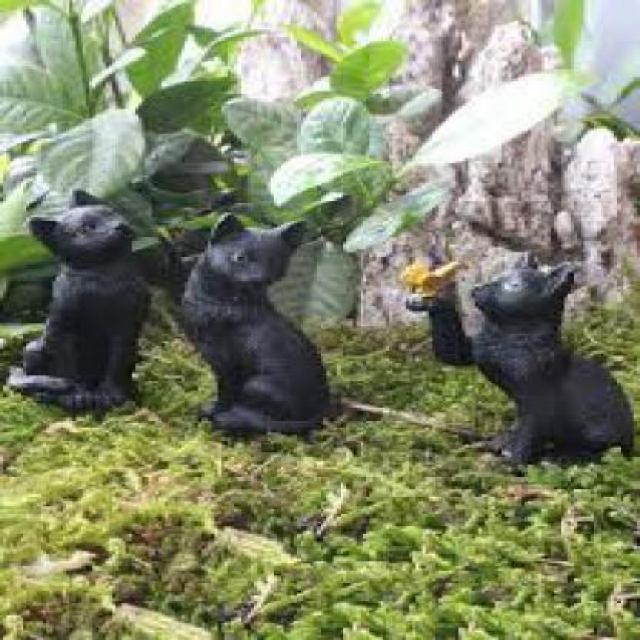animals: (416, 259, 627, 459), (178, 208, 333, 454), (16, 210, 152, 422)
